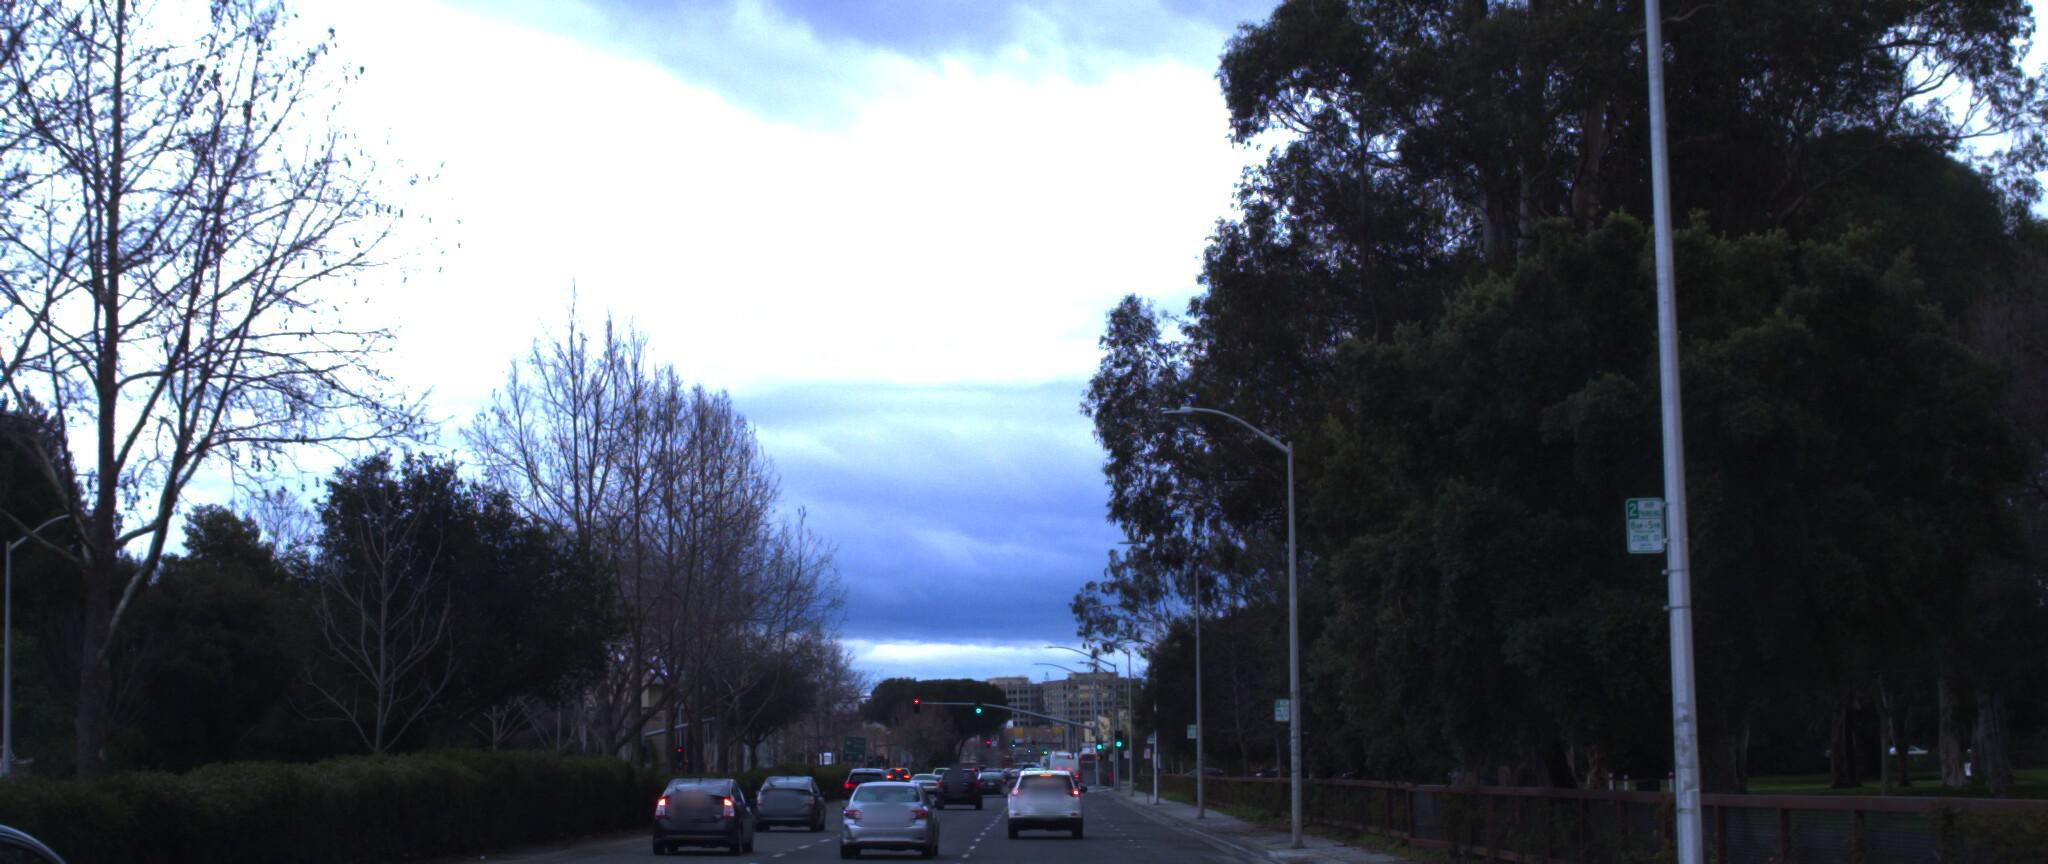car: (0, 799, 283, 864), (822, 764, 927, 844), (654, 773, 761, 851), (997, 767, 1075, 842)
